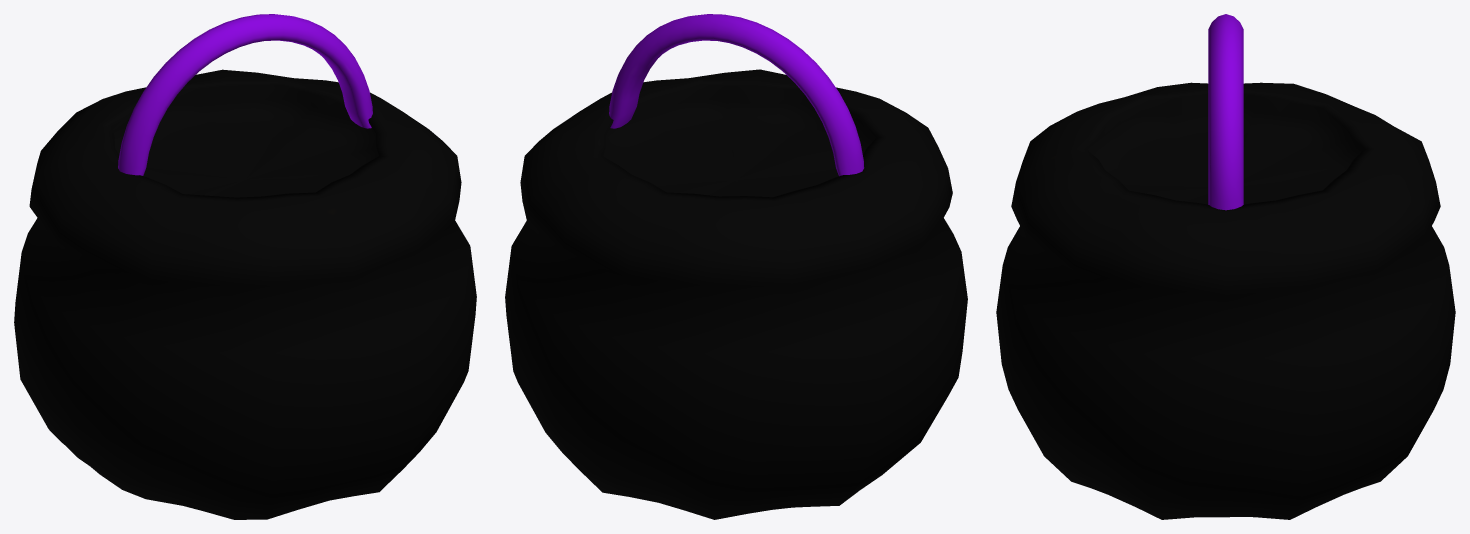
Rendered from Bucket_2.fbx.
The picture shows the model from 3 angles, left to right: view 1: azimuth 30°, elevation 25°; view 2: azimuth 150°, elevation 25°; view 3: azimuth 270°, elevation 25°; orthographic projection.
Parts seen in each view (by area): view 1: Bucket_2; view 2: Bucket_2; view 3: Bucket_2.
Boxes of the visible parts, bbox=[...] form: Bucket_2: bbox=[14, 14, 476, 519]; Bucket_2: bbox=[505, 14, 967, 519]; Bucket_2: bbox=[996, 14, 1455, 519].
Bounding box in the file's own units: 194 × 205 × 194.
1 material, 1 textured.
